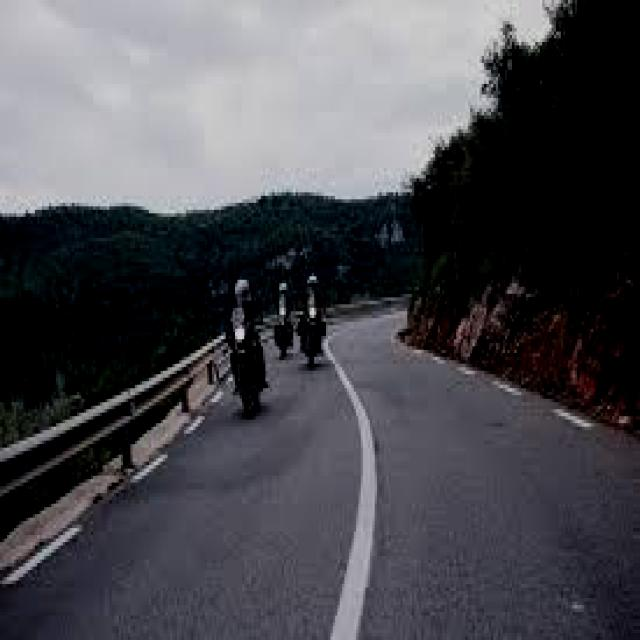MOTORCYCLE: (223, 307, 268, 416), (300, 288, 323, 368), (274, 294, 294, 356)
